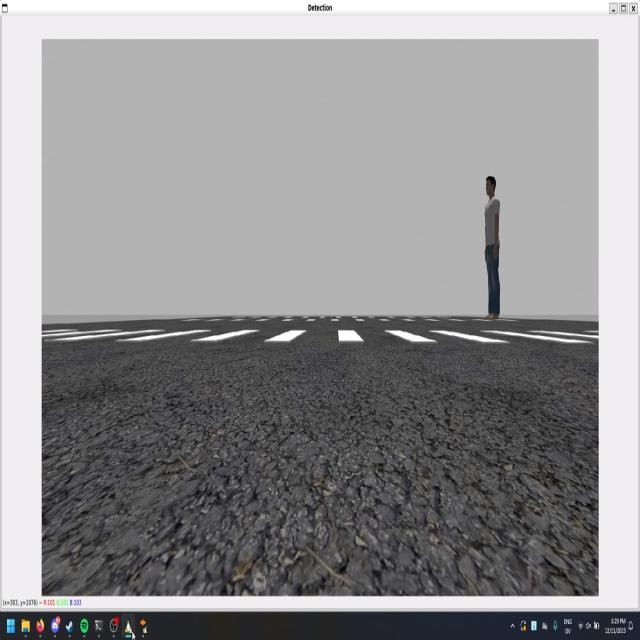crosswalk: (42, 328, 598, 344)
ped: (481, 172, 504, 322)
